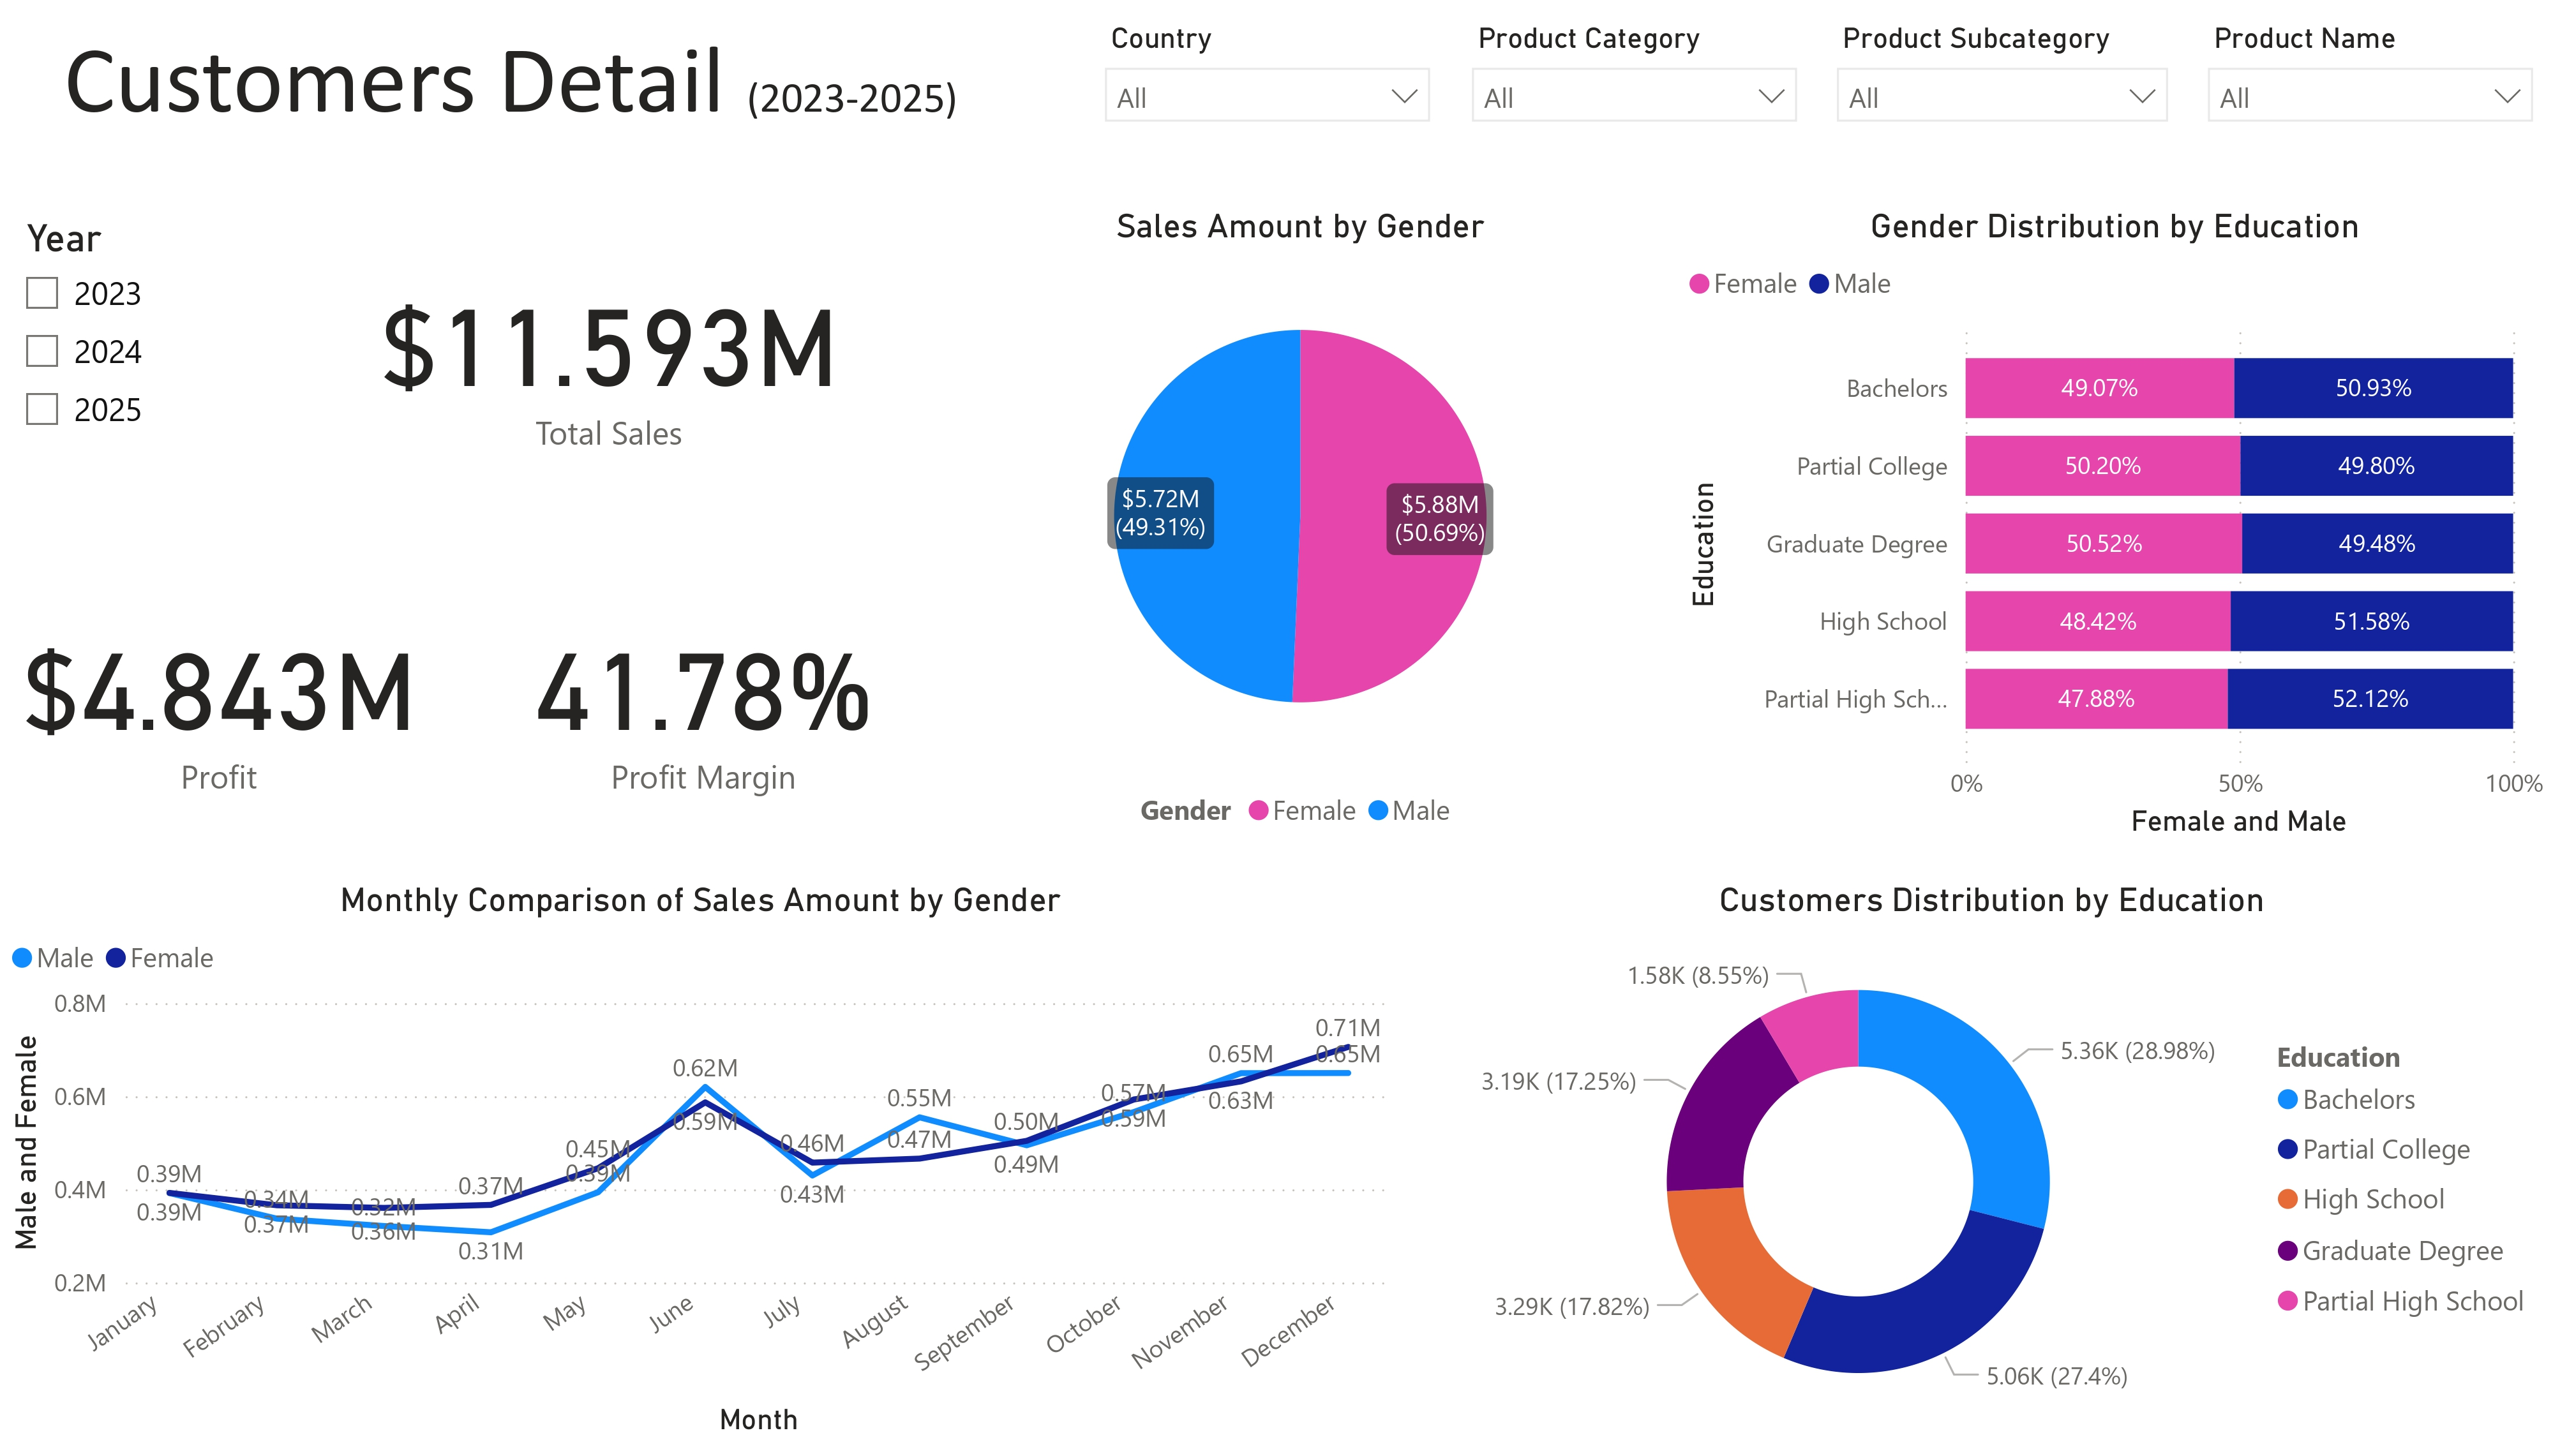

The page's visual inventory and layout, read from the dashboard file:
{"tool":"powerbi","page":{"name":"Customers Detail","canvas":[1280,720],"ordinal":1},"visuals":[{"type":"textbox","box":[0,0,512.2,82],"z":0},{"type":"textbox","box":[532.7,0,747.8,82],"z":1000},{"type":"slicer","fields":{"Values":["DIM_Date.Year"]},"box":[0,98,127.3,150.7],"z":2000},{"type":"card","fields":{"Values":["Sum(FACT_InternetSales.Sales Amount)"]},"box":[144.9,98,320.5,150.7],"z":3000},{"type":"card","fields":{"Values":["FACT_InternetSales.Profit"]},"box":[0,270.7,219.5,149.3],"z":4000},{"type":"card","fields":{"Values":["FACT_InternetSales.Profit Margin"]},"box":[240,270.7,225.4,149.3],"z":5000},{"type":"slicer","fields":{"Values":["DIM_Product.Product Category Name"]},"box":[728.3,1.5,182.9,80.5],"z":6000},{"type":"slicer","fields":{"Values":["DIM_Customer&Geography.Country"]},"box":[543.9,1.5,182.9,80.5],"z":7000},{"type":"slicer","fields":{"Values":["DIM_Product.Product Subcategory Name"]},"box":[911.2,1.5,185.9,80.5],"z":8000},{"type":"slicer","fields":{"Values":["DIM_Product.Product Name"]},"box":[1097.1,1.5,182.9,80.5],"z":9000},{"type":"pieChart","title":"Sales Amount by Gender","fields":{"Category":["DIM_Customer&Geography.Gender"],"Y":["Sum(FACT_InternetSales.Sales Amount)"]},"box":[480,98,343.9,322],"z":10000},{"type":"lineChart","title":"Monthly Comparison of Sales Amount by Gender","fields":{"Category":["DIM_Date.Month"],"Y":["FACT_InternetSales.Sales Amount for Male","FACT_InternetSales.Sales Amount for Female"]},"box":[0,436.1,702.4,283.9],"z":11000},{"type":"donutChart","title":"Customers Distribution by Education ","fields":{"Category":["DIM_Customer&Geography.Education"],"Y":["CountNonNull(DIM_Customer&Geography.Education)"]},"box":[717.1,436.1,563.4,283.9],"z":12000},{"type":"hundredPercentStackedBarChart","title":"Gender Distribution by Education","fields":{"Y":["DIM_Customer&Geography.Count of Gender for Female","DIM_Customer&Geography.Count of Gender for Male"],"Category":["DIM_Customer&Geography.Education"]},"box":[841.5,98,439,322],"z":13000}]}

Visuals, with their boxes in screenshot pixels (x1, y1, x2, y2), scaled from the page's 1280x720 canvas onto the 2553x1456 screenshot:
textbox: box=[0, 0, 1022, 166]
textbox: box=[1063, 0, 2552, 166]
slicer - DIM_Date.Year: box=[0, 198, 254, 503]
card - Sum(FACT_InternetSales.Sales Amount): box=[289, 198, 928, 503]
card - FACT_InternetSales.Profit: box=[0, 547, 438, 849]
card - FACT_InternetSales.Profit Margin: box=[479, 547, 928, 849]
slicer - DIM_Product.Product Category Name: box=[1453, 3, 1818, 166]
slicer - DIM_Customer&Geography.Country: box=[1085, 3, 1449, 166]
slicer - DIM_Product.Product Subcategory Name: box=[1818, 3, 2188, 166]
slicer - DIM_Product.Product Name: box=[2188, 3, 2552, 166]
"Sales Amount by Gender" pieChart: box=[957, 198, 1643, 849]
"Monthly Comparison of Sales Amount by Gender" lineChart: box=[0, 882, 1401, 1455]
"Customers Distribution by Education " donutChart: box=[1430, 882, 2552, 1455]
"Gender Distribution by Education" hundredPercentStackedBarChart: box=[1679, 198, 2552, 849]
